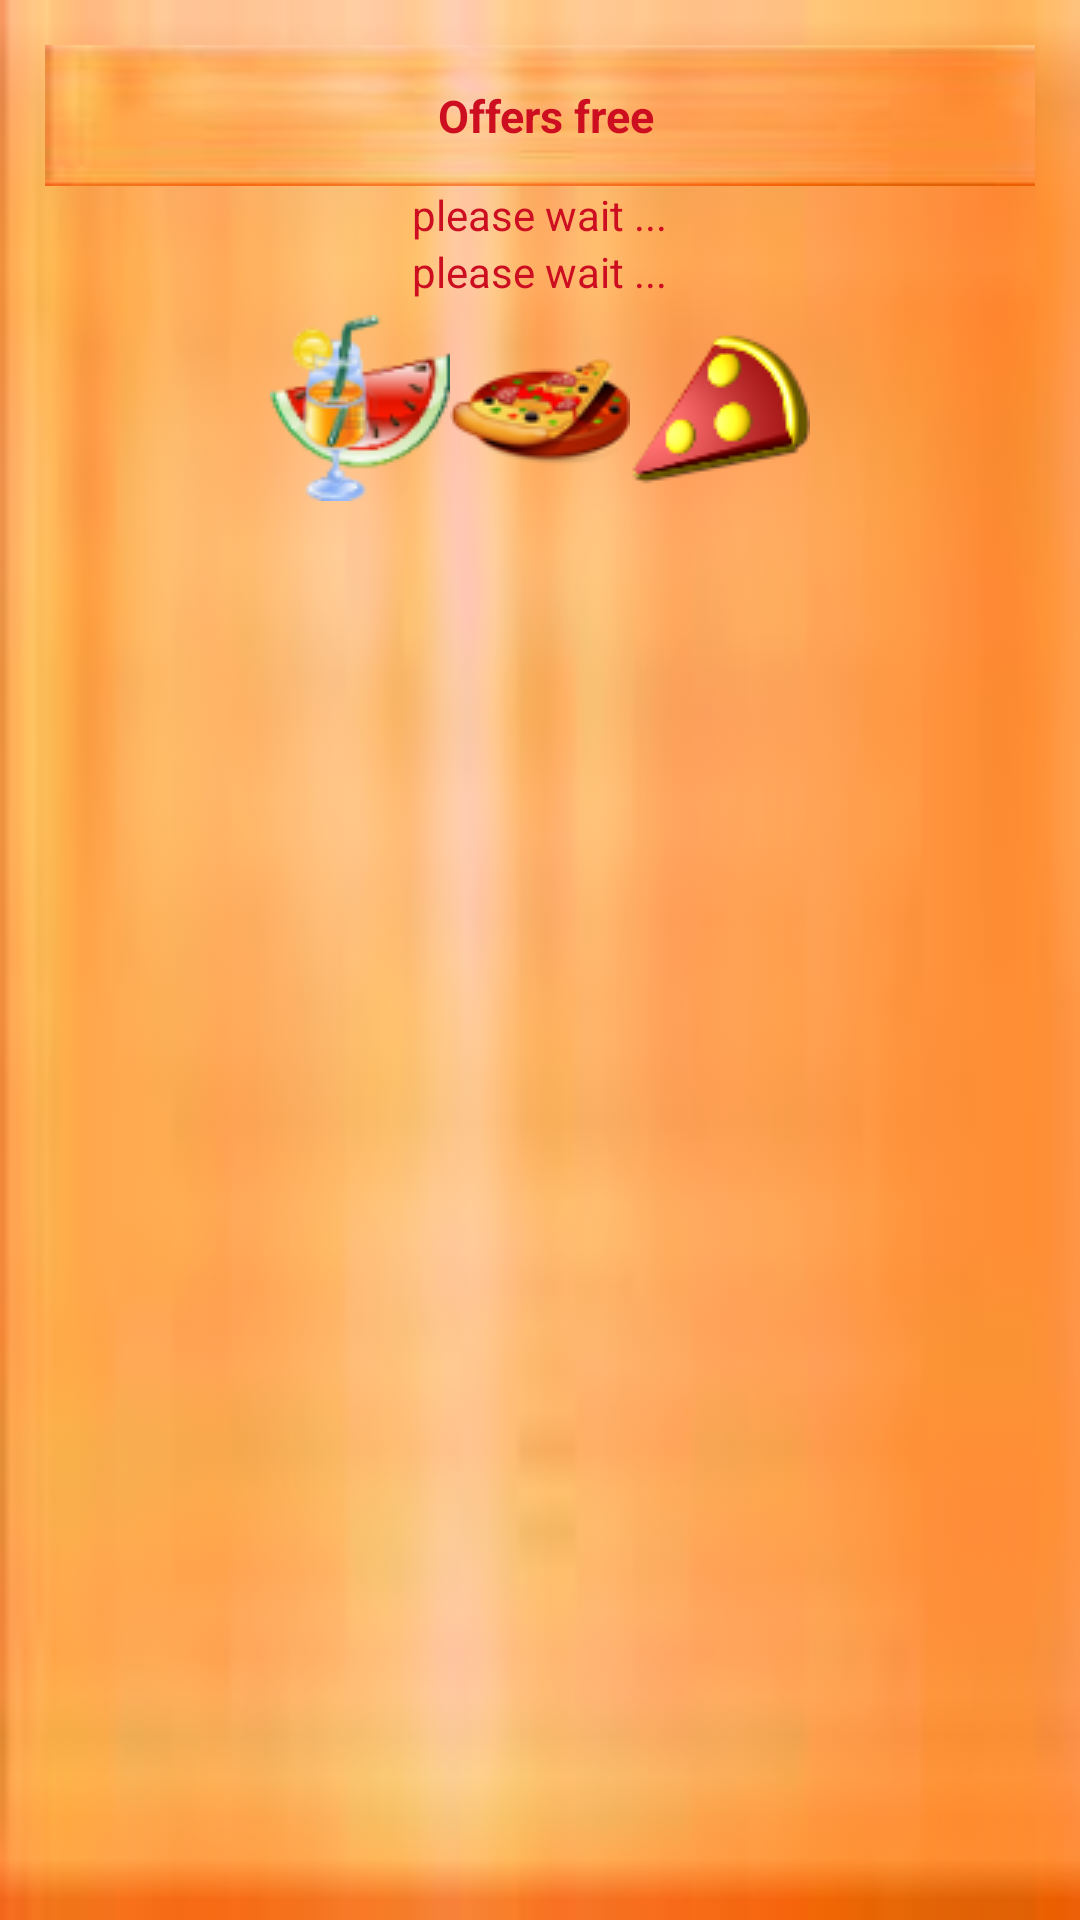

Named icons in this screenshot (1080*1920) and their centers, (x=x, y=y):
drinkss: (x=360, y=408)
